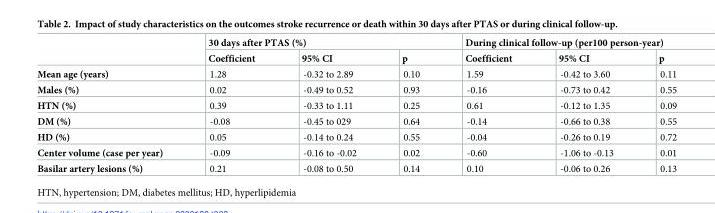table: (36, 37, 676, 173)
table column: (36, 37, 184, 173), (277, 37, 378, 173), (534, 37, 635, 173), (184, 37, 277, 173), (441, 37, 534, 173), (378, 37, 441, 173), (635, 37, 676, 173)
table column header: (36, 37, 676, 65)
table row: (36, 65, 676, 81), (36, 81, 676, 97), (36, 97, 676, 113), (36, 113, 676, 129), (36, 144, 676, 160), (36, 50, 676, 65), (36, 129, 676, 144), (36, 37, 676, 50), (36, 160, 676, 173)
table spanning cell: (184, 37, 441, 50), (441, 37, 676, 50)
